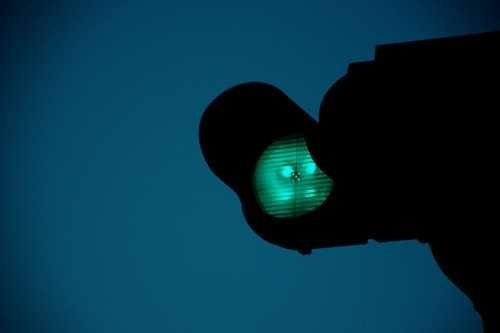red traffic light: (201, 83, 338, 248)
